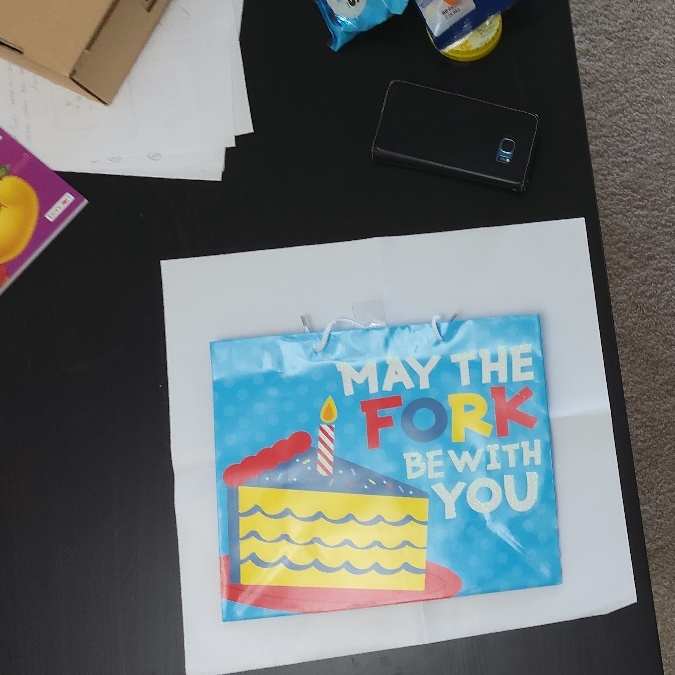paper_bag: (210, 342, 546, 595)
